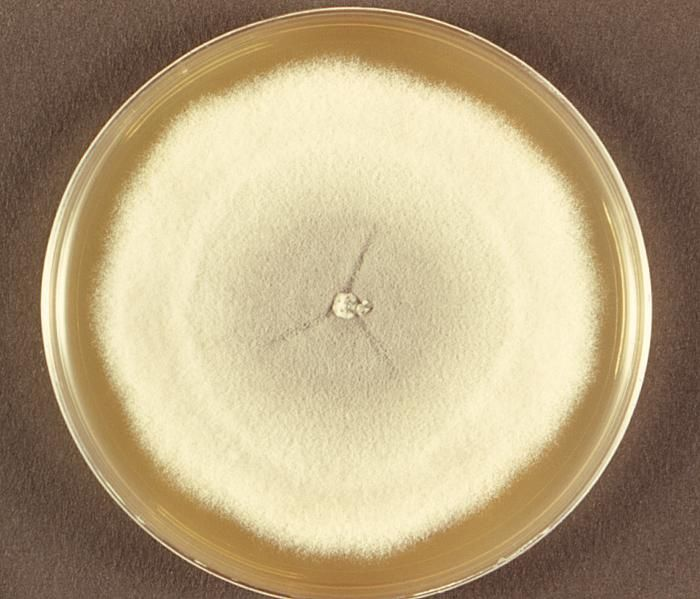Acremonium: (152, 109, 542, 491)
